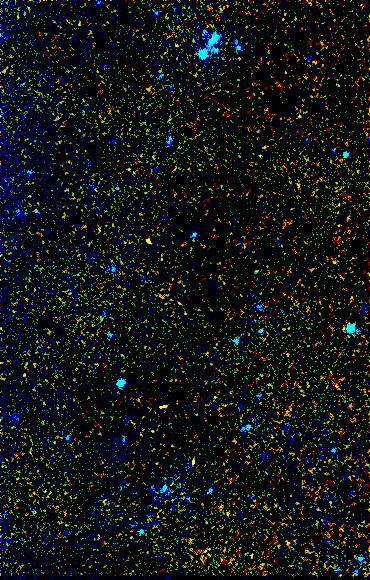star: (135, 226, 165, 256)
